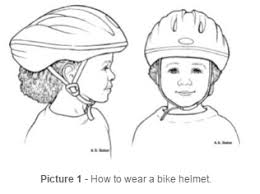helmet: (10, 4, 128, 103), (144, 9, 230, 108)
